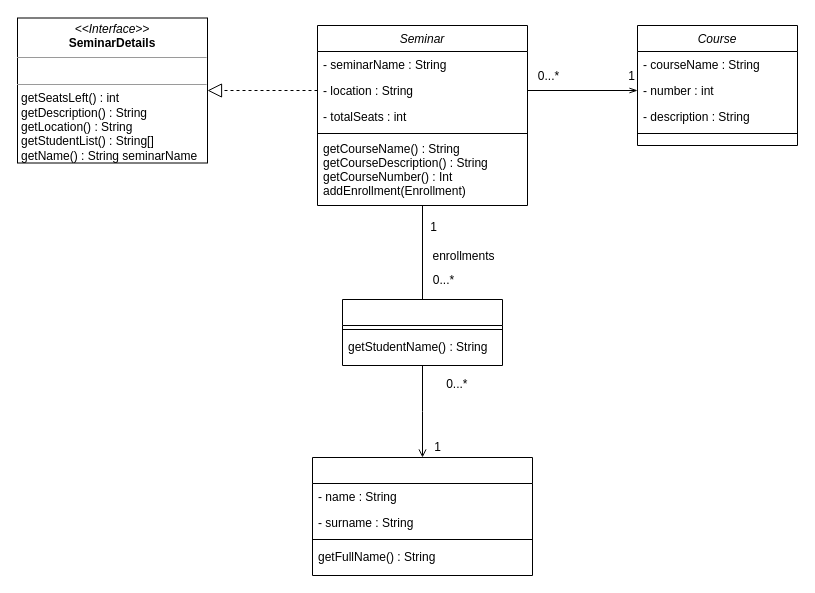
Some shapes in this 815 by 593 pixel diagram are drawn without their labels. The shapes that lost their labels are listed below. From the top down, each one's box as (x1, y1, x2, y2) in pixels, then its label:
(342, 298, 502, 366): Enrollment
(312, 456, 532, 576): Student
